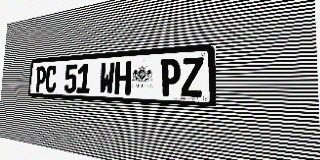1: (76, 63, 91, 94)
5: (64, 64, 78, 93)
C: (45, 65, 57, 93)
H: (114, 61, 131, 95)
P: (160, 58, 181, 97), (35, 66, 46, 92)
W: (99, 62, 115, 94)
Z: (181, 57, 204, 97)
